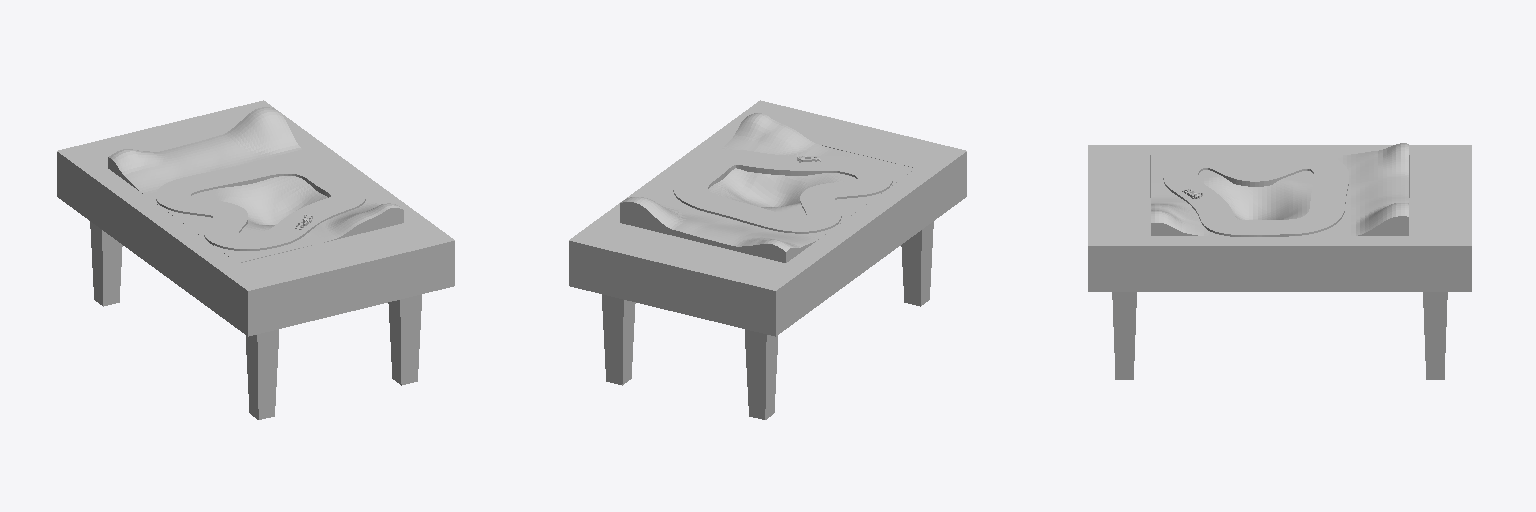
File: NewestTisch47.obj
3 views of the same model, side by side, from view 1: azimuth 30°, elevation 25°; view 2: azimuth 150°, elevation 25°; view 3: azimuth 270°, elevation 25° (orthographic).
Parts seen in each view (by area): view 1: Tischplatte_wood_table_001, Landschaft_aerial_grass_rock, off, Bein1_wood_table_001, Bein4_wood_table_001.003, Bein3_wood_table_001.002; view 2: Tischplatte_wood_table_001, Landschaft_aerial_grass_rock, off, Bein2_wood_table_001.001, Bein3_wood_table_001.002, Bein4_wood_table_001.003; view 3: Tischplatte_wood_table_001, Landschaft_aerial_grass_rock, off, Bein1_wood_table_001, Bein2_wood_table_001.001.
Boxes of the visible parts, <box> form: Tischplatte_wood_table_001: <box>57,100,454,336</box>; Landschaft_aerial_grass_rock: <box>108,107,403,262</box>; off: <box>156,159,365,250</box>; Bein1_wood_table_001: <box>388,294,421,385</box>; Bein4_wood_table_001.003: <box>246,329,278,419</box>; Bein3_wood_table_001.002: <box>90,221,122,306</box>; Tischplatte_wood_table_001: <box>569,100,966,336</box>; Landschaft_aerial_grass_rock: <box>620,113,915,262</box>; off: <box>673,150,892,233</box>; Bein2_wood_table_001.001: <box>602,294,635,385</box>; Bein3_wood_table_001.002: <box>745,329,777,419</box>; Bein4_wood_table_001.003: <box>901,221,933,306</box>; Tischplatte_wood_table_001: <box>1088,145,1471,291</box>; Landschaft_aerial_grass_rock: <box>1151,143,1408,235</box>; off: <box>1163,153,1348,236</box>; Bein1_wood_table_001: <box>1112,292,1136,379</box>; Bein2_wood_table_001.001: <box>1423,292,1447,379</box>.
Bounding box in the file's own units: 5 × 3.91 × 8.